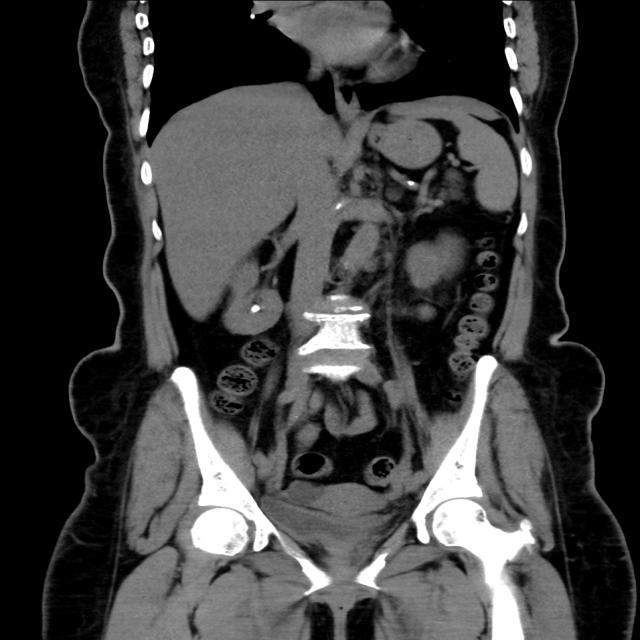kidneystone: (250, 304, 260, 313)
